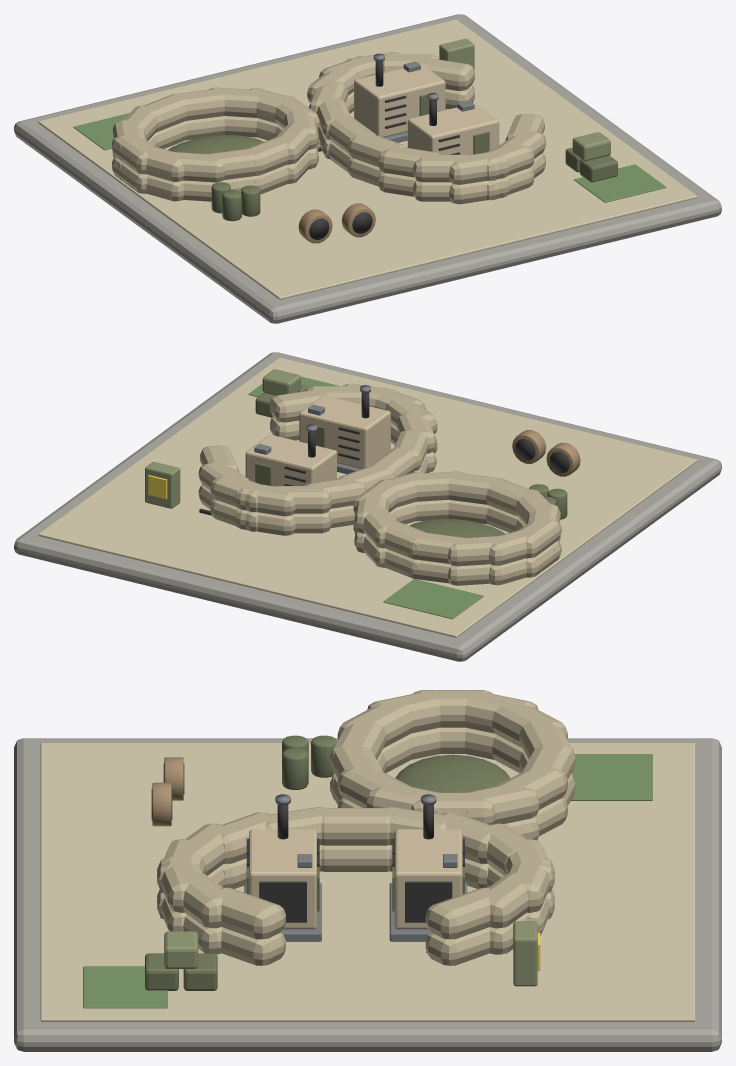
File: power_1.glb
3 renders of one model, top to bottom at view 1: azimuth 30°, elevation 25°; view 2: azimuth 150°, elevation 25°; view 3: azimuth 270°, elevation 25°, orthographic. The views are drawn at different scales.
Parts seen in each view (by area): view 1: Cube.001, Cube, Cube.021, Cube.006, Cube.003, Cube.057, Sphere, Cube.071, Cube.085, Cube.035, Cube.083, Cube.055 (+41 smaller); view 2: Cube.001, Cube, Cube.006, Cube.021, Cube.002, Cube.041, Sphere, Cube.075, Cube.087, Cube.077, Cube.063, Cube.096 (+38 smaller); view 3: Cube.001, Cube, Cube.021, Cube.006, Cube.002, Sphere, Cube.003, Cube.049, Cube.035, Cube.063, Cube.067, Cube.048 (+49 smaller).
Boxes of the visible parts, bbox=[...] form: Cube.001: bbox=[38, 19, 697, 299]; Cube: bbox=[14, 14, 721, 323]; Cube.021: bbox=[354, 64, 445, 137]; Cube.006: bbox=[407, 103, 499, 154]; Cube.003: bbox=[574, 164, 666, 202]; Cube.057: bbox=[449, 151, 509, 184]; Sphere: bbox=[168, 135, 263, 153]; Cube.071: bbox=[172, 89, 224, 120]; Cube.085: bbox=[207, 148, 265, 179]; Cube.035: bbox=[417, 57, 474, 90]; Cube.083: bbox=[173, 152, 225, 182]; Cube.055: bbox=[413, 154, 469, 182]; Cube.001: bbox=[38, 357, 697, 637]; Cube: bbox=[14, 352, 721, 661]; Cube.006: bbox=[299, 395, 390, 468]; Cube.021: bbox=[245, 434, 336, 486]; Cube.002: bbox=[383, 579, 483, 619]; Cube.041: bbox=[235, 483, 295, 516]; Sphere: bbox=[410, 519, 504, 537]; Cube.075: bbox=[448, 536, 501, 566]; Cube.087: bbox=[448, 473, 500, 504]; Cube.077: bbox=[489, 529, 543, 565]; Cube.063: bbox=[270, 389, 330, 422]; Cube.096: bbox=[145, 461, 180, 508]; Cube.001: bbox=[40, 743, 695, 1021]; Cube: bbox=[14, 738, 721, 1051]; Cube.021: bbox=[394, 829, 462, 929]; Cube.006: bbox=[249, 829, 316, 929]; Cube.002: bbox=[570, 754, 652, 800]; Sphere: bbox=[395, 754, 510, 792]; Cube.003: bbox=[83, 966, 167, 1008]; Cube.049: bbox=[321, 808, 390, 845]; Cube.035: bbox=[425, 887, 497, 939]; Cube.063: bbox=[214, 887, 285, 939]; Cube.067: bbox=[462, 782, 538, 823]; Cube.048: bbox=[321, 845, 390, 871].
Bounding box in the file's own units: 2.92 × 0.595 × 2.92.
